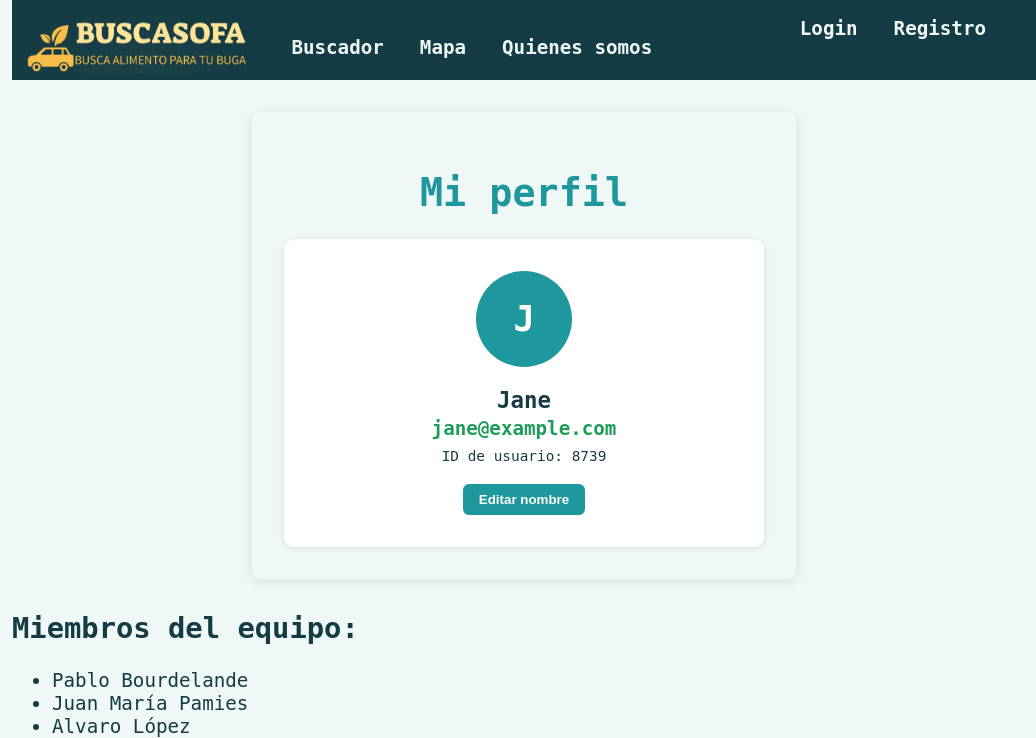
Test: Página de perfil de usuario › permite cancelar la edición sin modificar el nombre
This screenshot has width=1036, height=738.
Click the button with test id "profile-edit-btn": click(524, 500) x1=463 y1=484 x2=585 y2=515
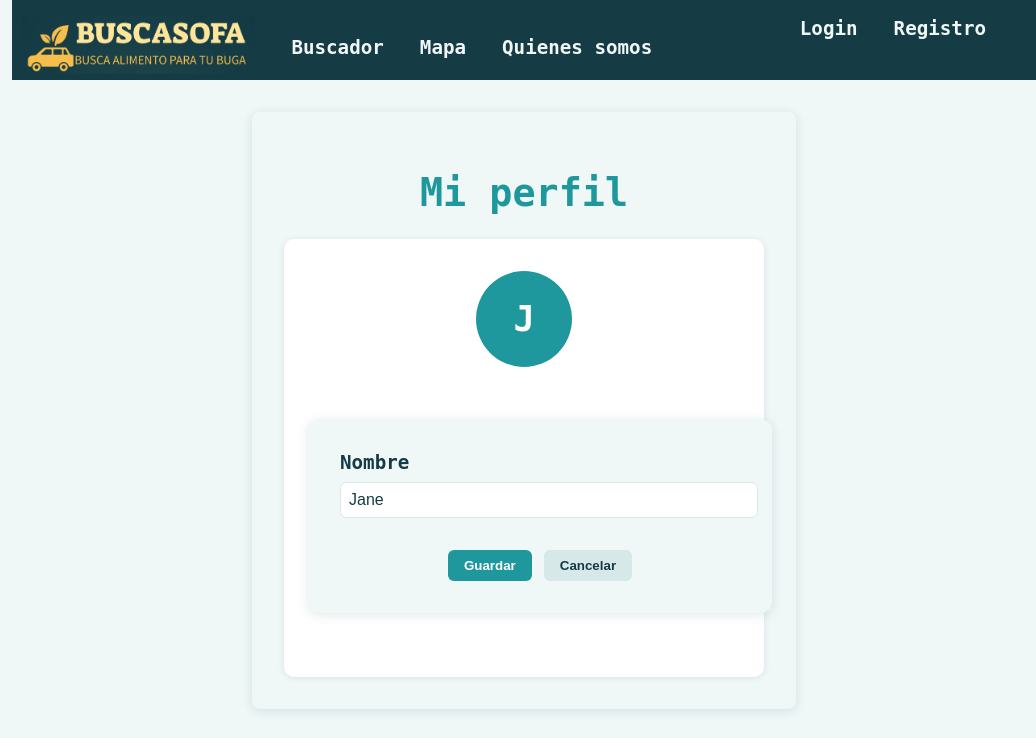
Replace the text in the field with test id "profile-name-input" with "Otro nombre": (549, 500) x1=340 y1=482 x2=758 y2=518
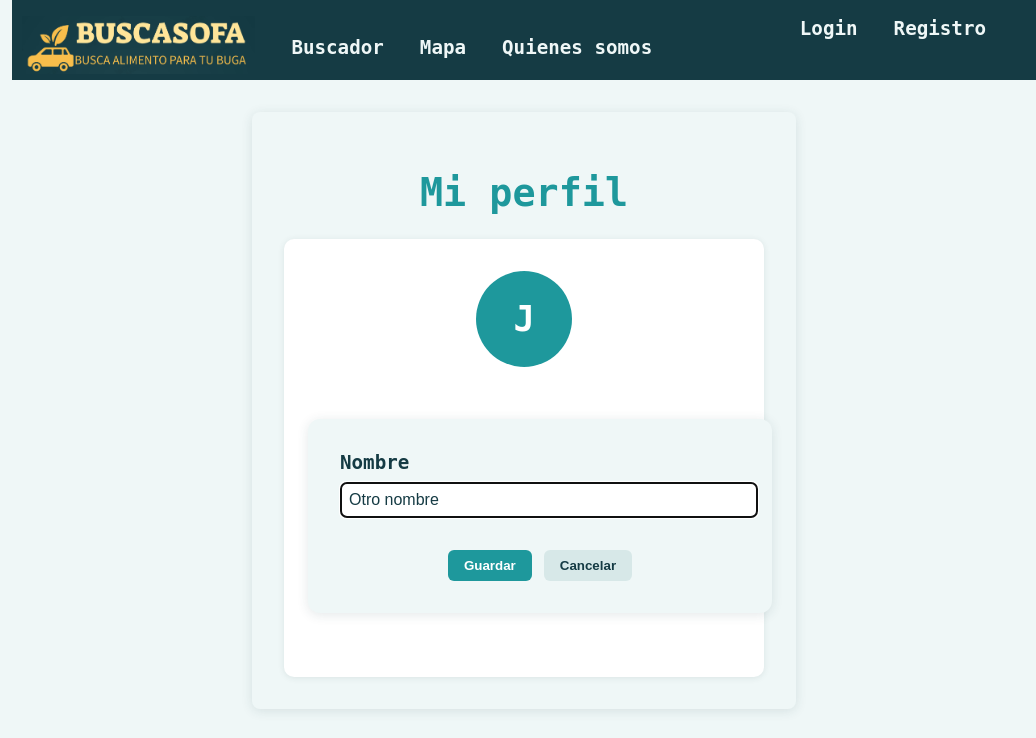
Click the button with test id "profile-cancel-btn": click(588, 566) x1=544 y1=550 x2=632 y2=581
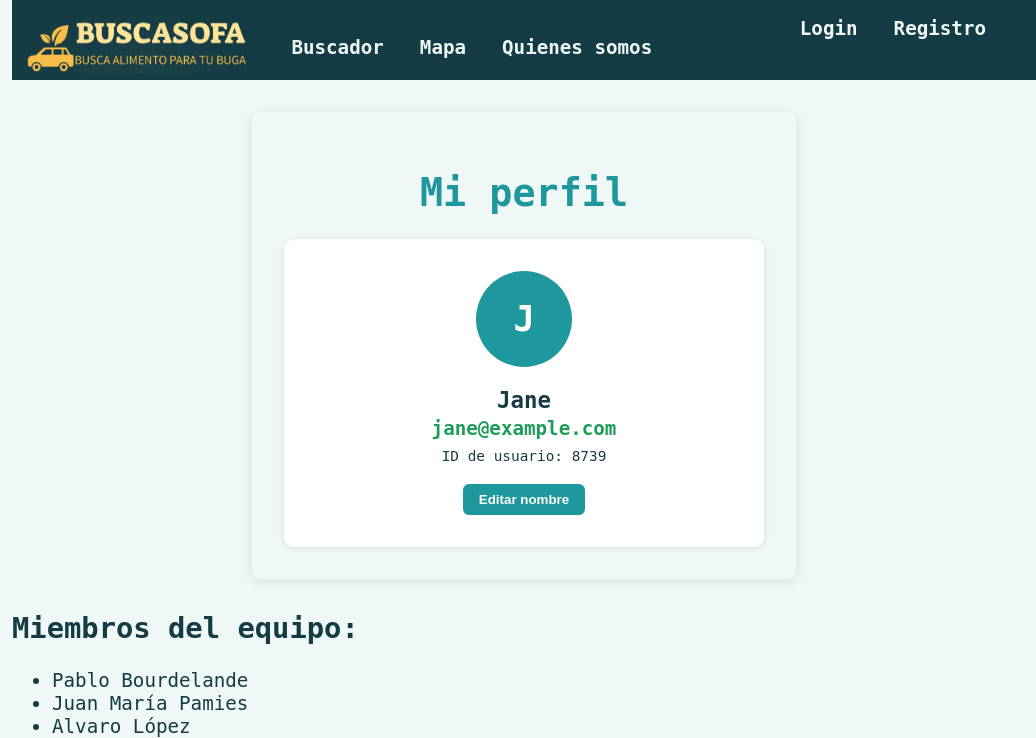
Check: the heading with test id "profile-name" reads "Jane", box x1=497 y1=387 x2=551 y2=413
